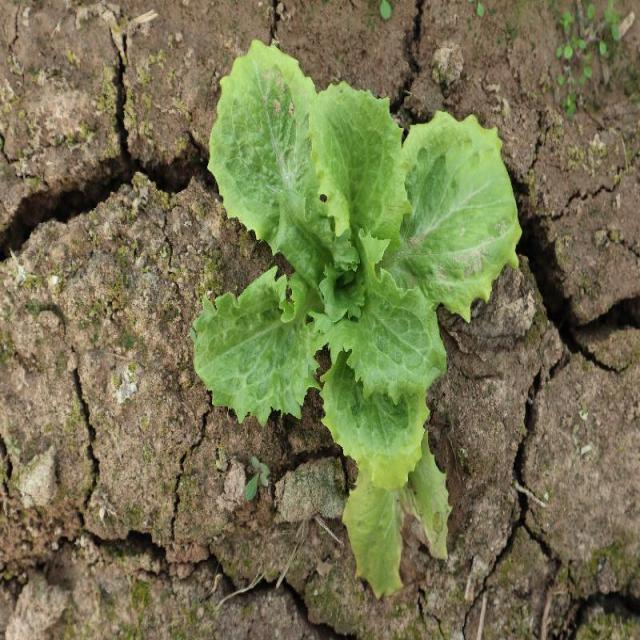crop: (192, 39, 523, 602)
